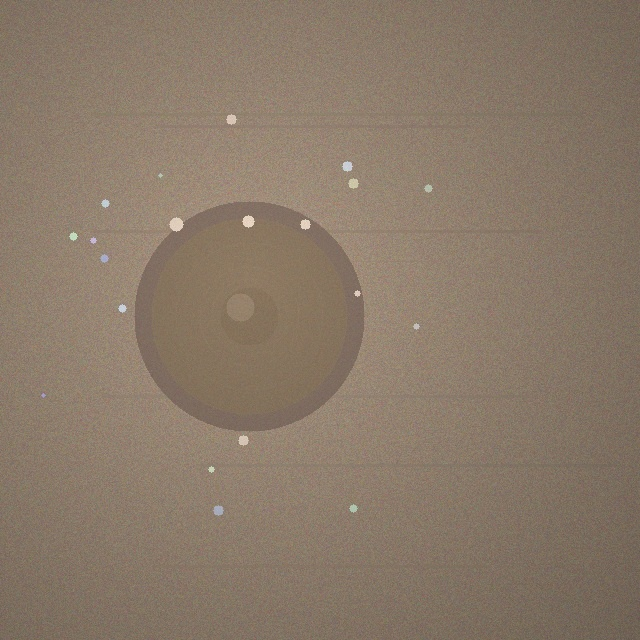overburn: (134, 201, 364, 431)
